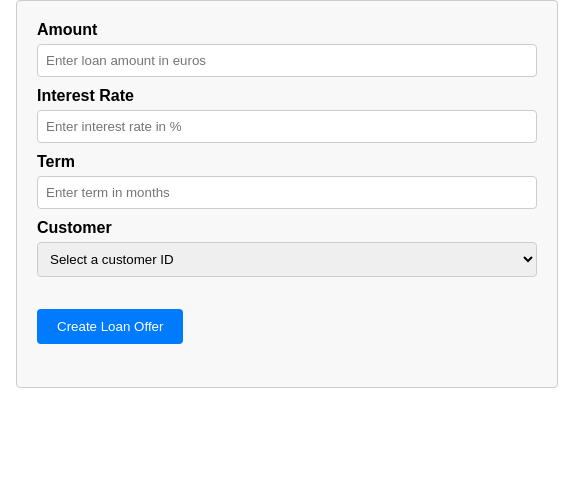
LoanOfferForm Component › displays validation errors on empty form submission
The image size is (575, 477).
Click the button "Create Loan Offer": (110, 326) [37, 309, 184, 344]
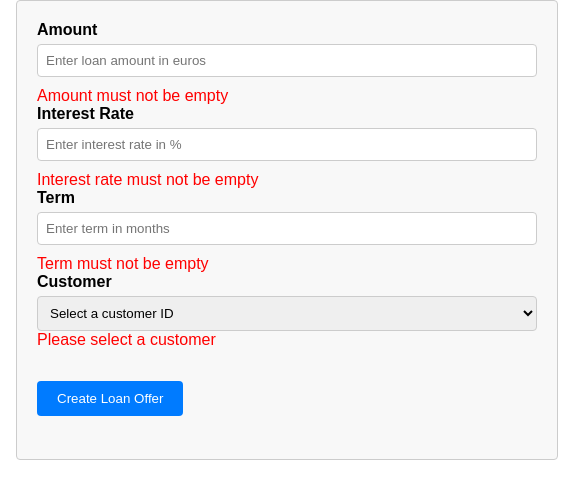
Now the text "Amount must not be empty" is shown, box [37, 87, 228, 104]
Now the text "Interest rate must not be empty" is shown, box [37, 171, 258, 188]
Now the text "Term must not be empty" is shown, box [37, 255, 209, 272]
